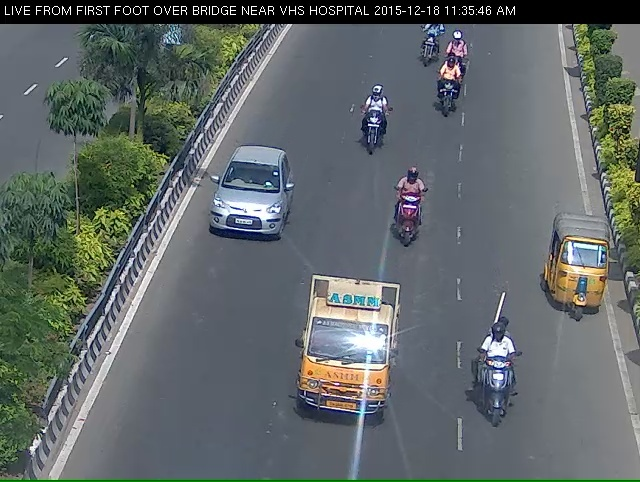Auto: (285, 296, 397, 461), (540, 222, 617, 336)
Car: (189, 163, 295, 268)
Person: (440, 297, 531, 462), (386, 188, 437, 285), (356, 82, 394, 175), (434, 76, 462, 138), (446, 41, 480, 90), (414, 22, 436, 77)
